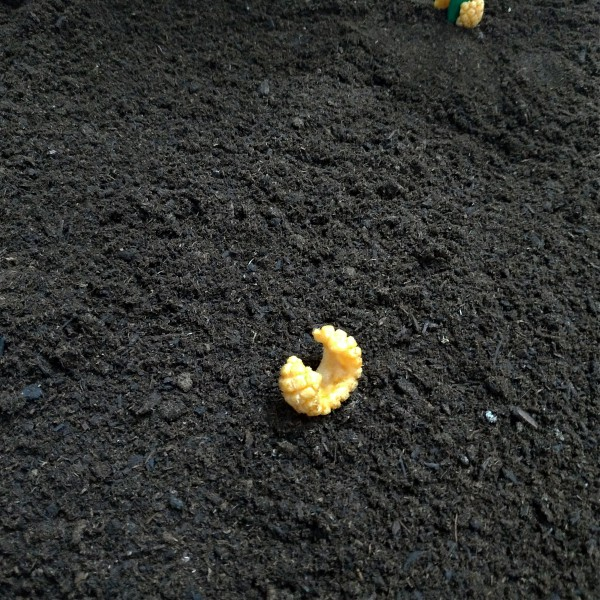eggs: (274, 323, 369, 419), (455, 1, 486, 33)
